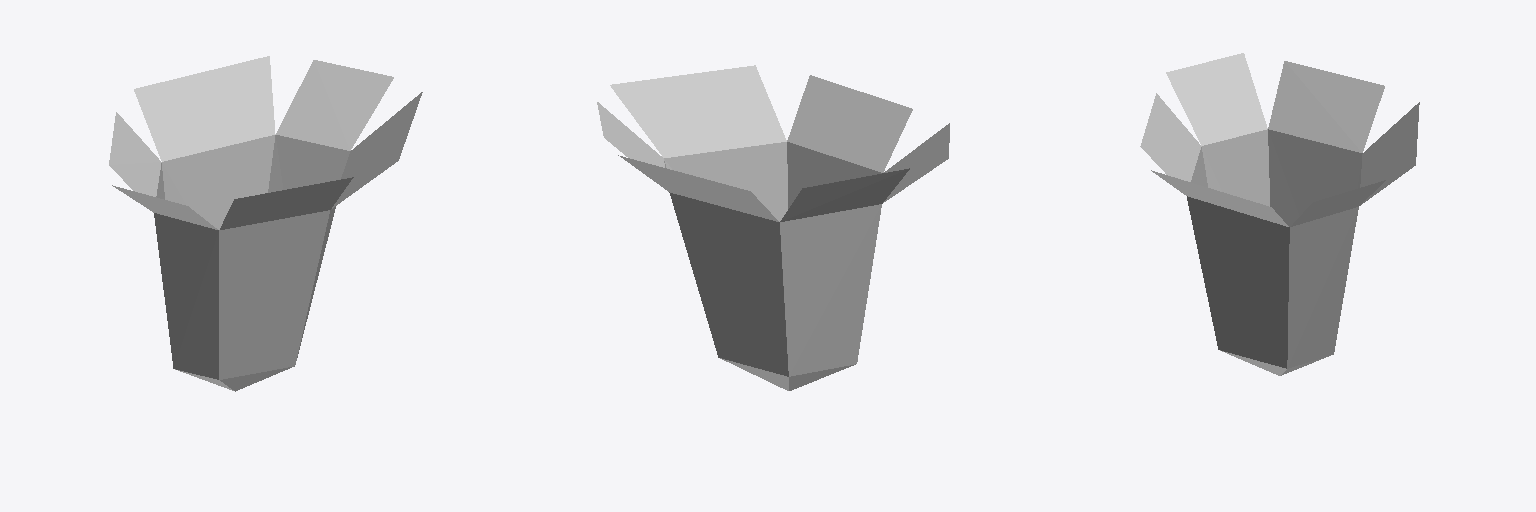
The model's file is Petal_4.obj.
The picture shows the model from 3 angles: view 1: azimuth 30°, elevation 25°; view 2: azimuth 150°, elevation 25°; view 3: azimuth 270°, elevation 25°; orthographic projection.
Parts seen in each view (by area): view 1: Petal_4; view 2: Petal_4; view 3: Petal_4.
Boxes of the visible parts, x1=… form: Petal_4: x1=109, y1=56, x2=422, y2=391; Petal_4: x1=597, y1=65, x2=949, y2=390; Petal_4: x1=1140, y1=53, x2=1419, y2=375.
Bounding box in the file's own units: 0.3291 × 0.2521 × 0.2445.